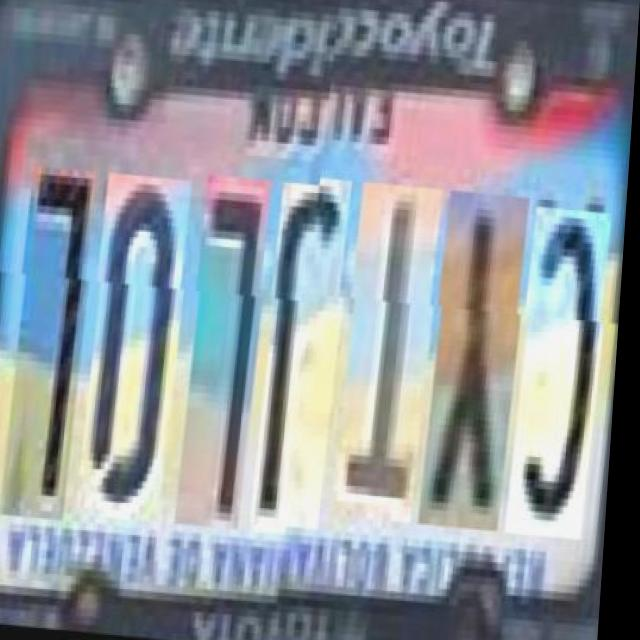0: (77, 176, 192, 523)
c: (506, 209, 611, 541)
j: (251, 182, 351, 536)
l: (176, 176, 271, 530), (1, 171, 96, 525)
t: (332, 189, 441, 527)
y: (419, 195, 528, 533)
